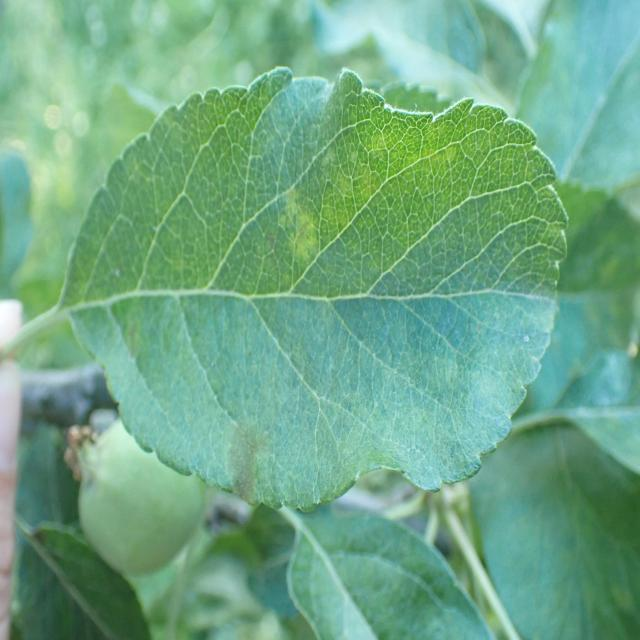scab: (69, 95, 529, 505)
